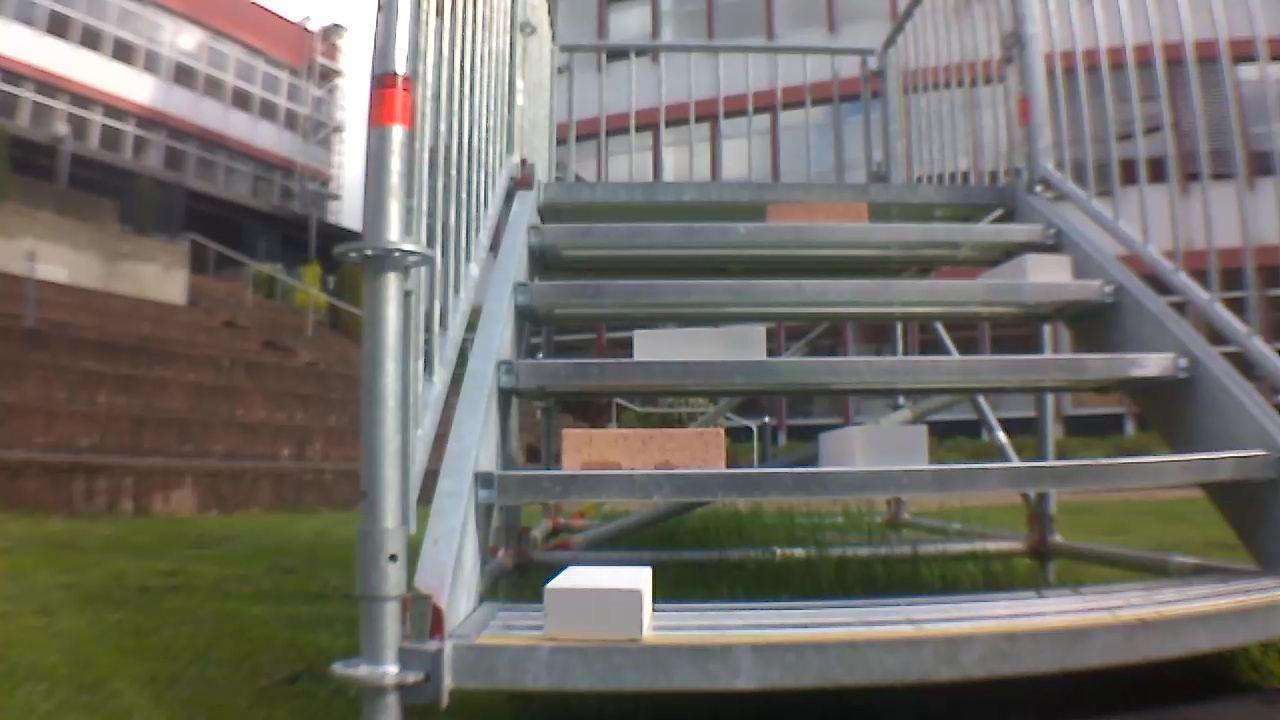brick: (536, 566, 658, 640), (562, 427, 727, 469), (630, 325, 769, 360), (820, 423, 933, 465), (986, 252, 1075, 280), (765, 203, 870, 222)
edge: (447, 591, 1280, 692), (474, 454, 1276, 510), (495, 353, 1192, 387), (513, 278, 1123, 309), (528, 221, 1061, 246), (540, 182, 1012, 207)
stairs: (358, 0, 1280, 717)
steps: (440, 181, 1280, 708)
